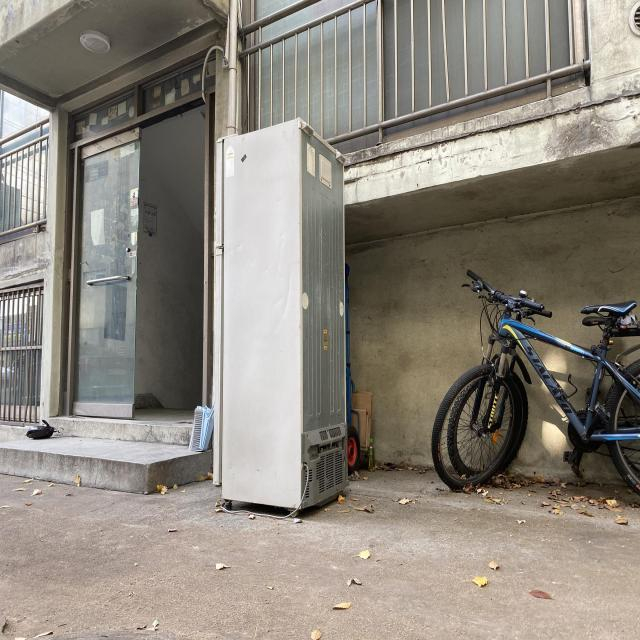refrigerator: (211, 117, 350, 517)
